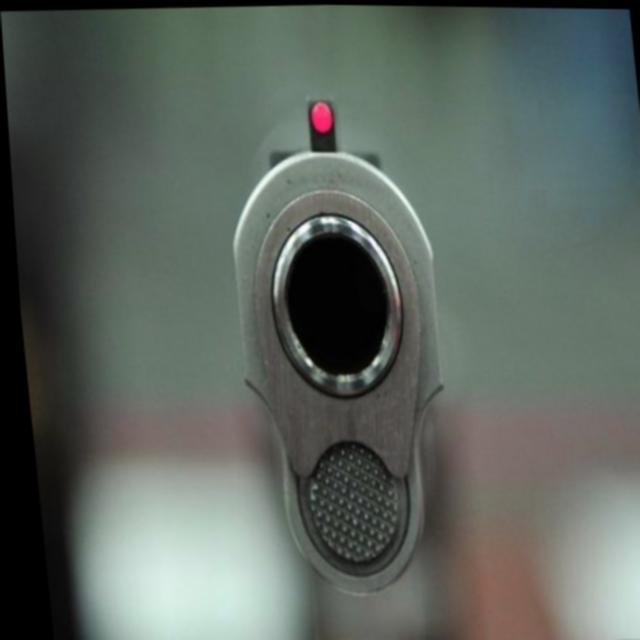weapon: (211, 90, 464, 640)
